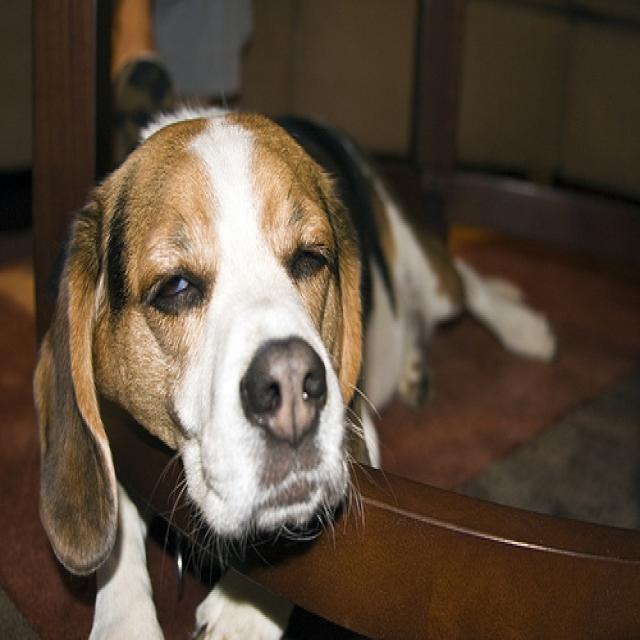dog-beagle: (23, 104, 561, 636)
